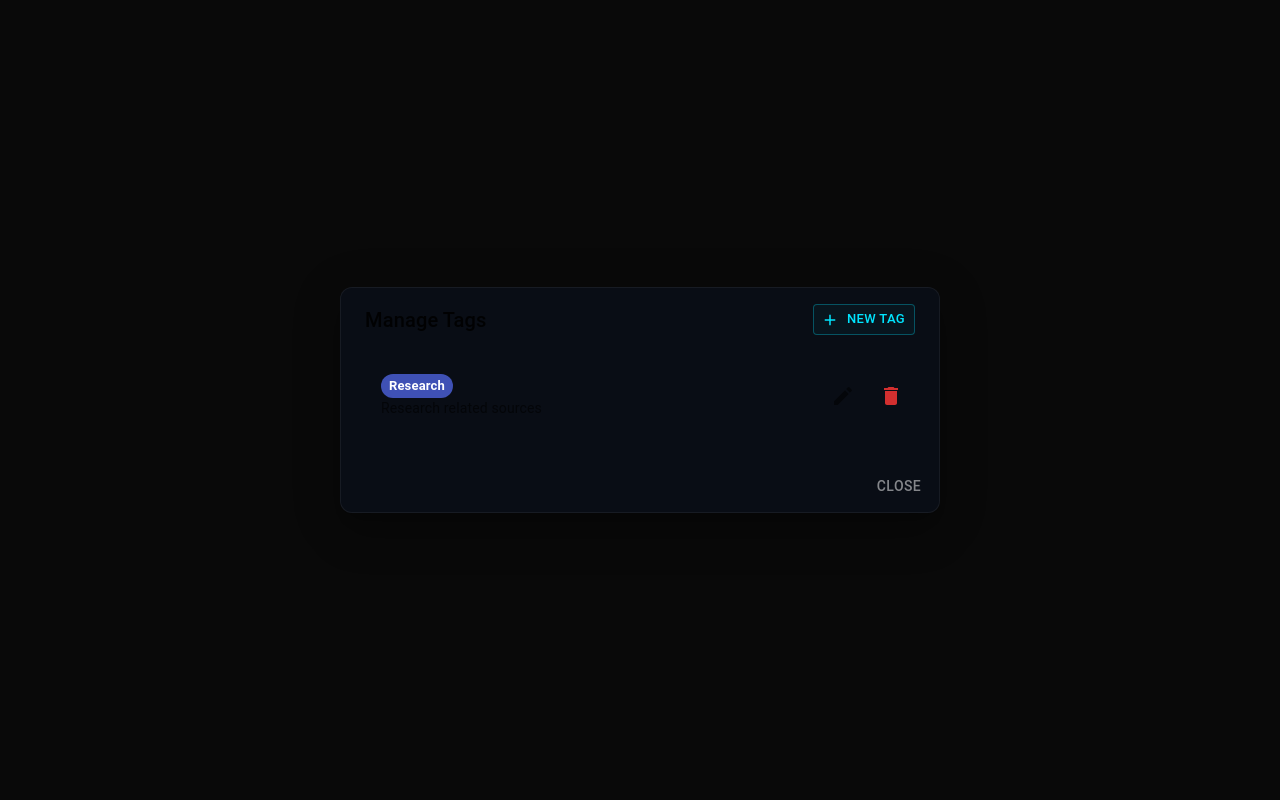
Test: TagManager › delete tag flow › closes the confirm dialog without deleting when Cancel is clicked
This screenshot has width=1280, height=800.
Expected: the text "Research" is shown, [389,378,445,393]
Click the button named "delete tag": (891, 396) [871,376,911,416]
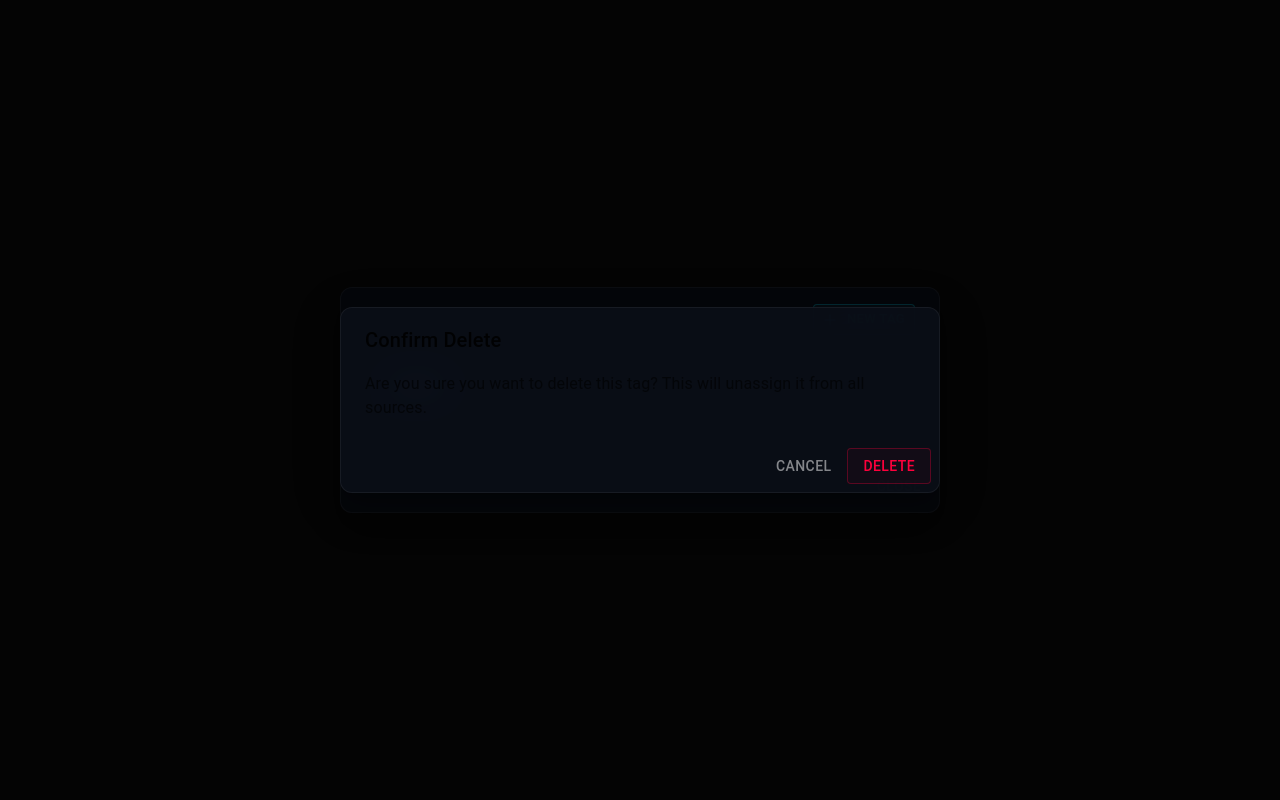
// Cancel the dialog
Click the button "Cancel": (804, 466) [768,448,840,484]
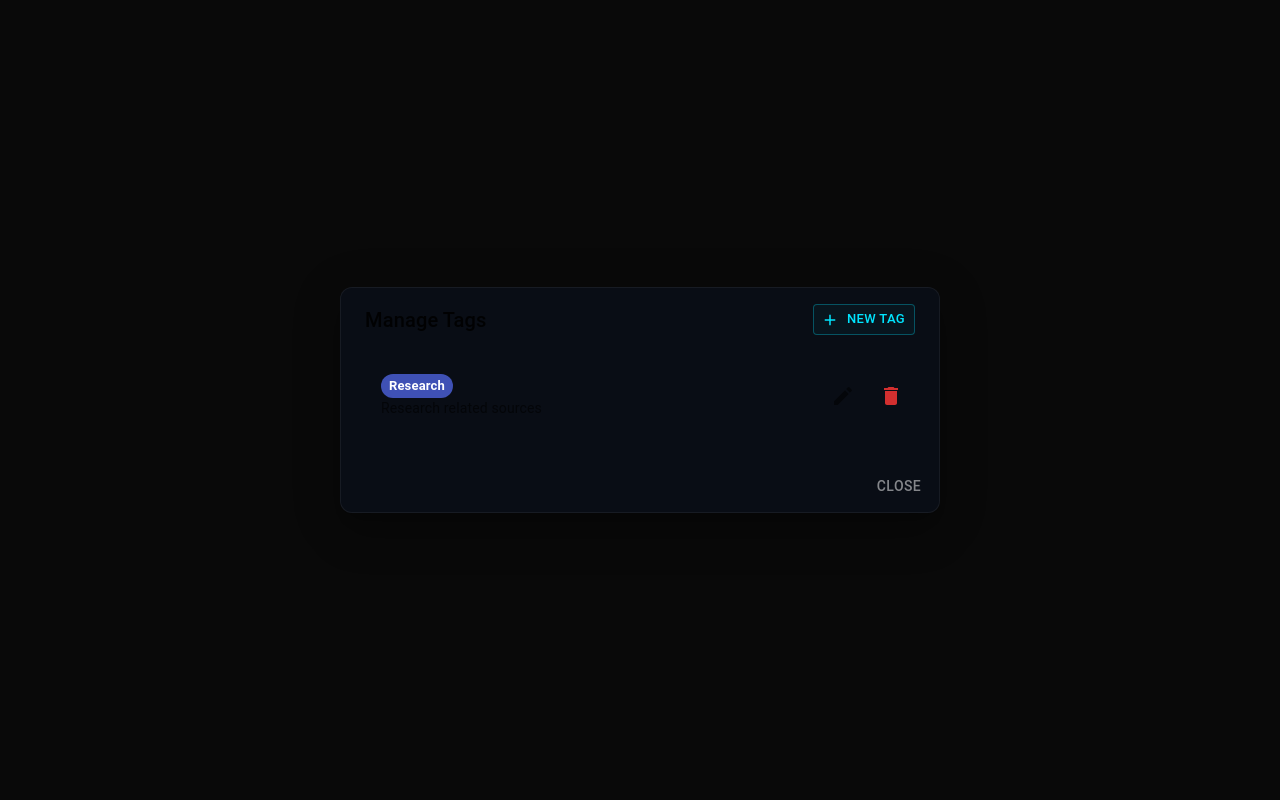
Expected: the heading "Confirm Delete" is gone
